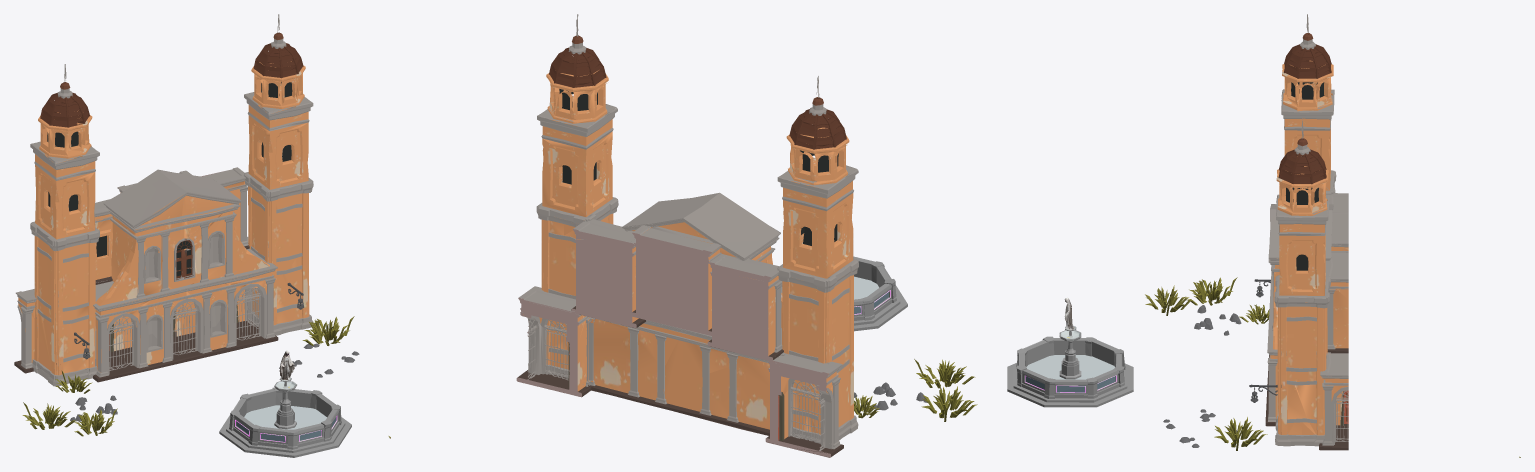
File: fountain2.glb
The picture shows the model from 3 angles, left to right: view 1: azimuth 30°, elevation 25°; view 2: azimuth 150°, elevation 25°; view 3: azimuth 270°, elevation 25°; orthographic projection. The views are drawn at different scales.
Visible parts, largest first — view 1: SM_Bld_Cuba_Hall_Room_02_1, Fountain, SM_Env_Grass_02_5, SM_Env_Grass_02_1, SM_Env_Grass_02, SM_Env_Grass_02_2, SM_Env_Rocks_01; view 2: SM_Bld_Cuba_Hall_Room_02_1, Fountain, SM_Env_Grass_02_1, SM_Env_Grass_02; view 3: SM_Bld_Cuba_Hall_Room_02_1, Fountain, SM_Env_Grass_02_5, SM_Env_Grass_02_1, SM_Env_Grass_02.
Boxes of the visible parts, left/top/right/bottom form: SM_Bld_Cuba_Hall_Room_02_1: left=14, top=14, right=313, bottom=386; Fountain: left=219, top=377, right=351, bottom=457; SM_Env_Grass_02_5: left=302, top=316, right=354, bottom=345; SM_Env_Grass_02_1: left=22, top=402, right=76, bottom=429; SM_Env_Grass_02: left=74, top=408, right=117, bottom=436; SM_Env_Grass_02_2: left=55, top=370, right=92, bottom=393; SM_Env_Rocks_01: left=70, top=395, right=117, bottom=421; SM_Bld_Cuba_Hall_Room_02_1: left=388, top=14, right=858, bottom=457; Fountain: left=781, top=256, right=907, bottom=331; SM_Env_Grass_02_1: left=921, top=386, right=977, bottom=421; SM_Env_Grass_02: left=914, top=359, right=975, bottom=388; SM_Bld_Cuba_Hall_Room_02_1: left=1249, top=14, right=1520, bottom=457; Fountain: left=1007, top=325, right=1133, bottom=407; SM_Env_Grass_02_5: left=1214, top=417, right=1267, bottom=450; SM_Env_Grass_02_1: left=1186, top=277, right=1237, bottom=305; SM_Env_Grass_02: left=1145, top=285, right=1192, bottom=315.
Bounding box in the file's own units: 14.36 × 11.94 × 17.51.
Materials: 13 (5 with a texture image).
